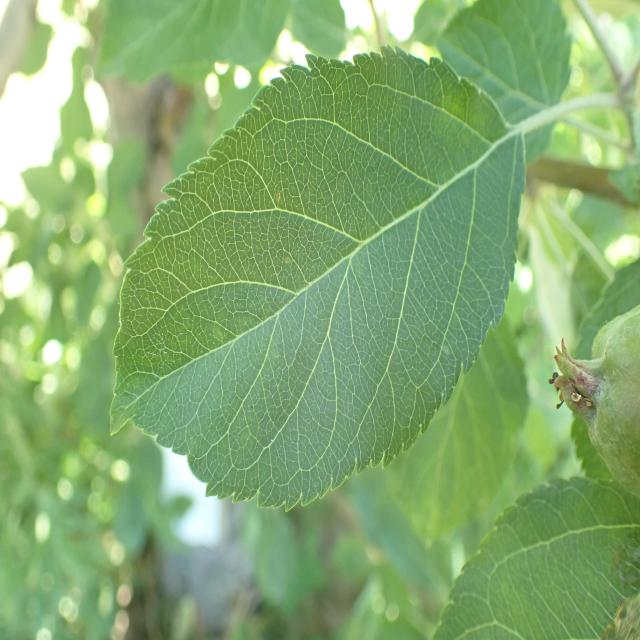healthy: (110, 42, 528, 512), (430, 475, 640, 640), (437, 1, 576, 168)
